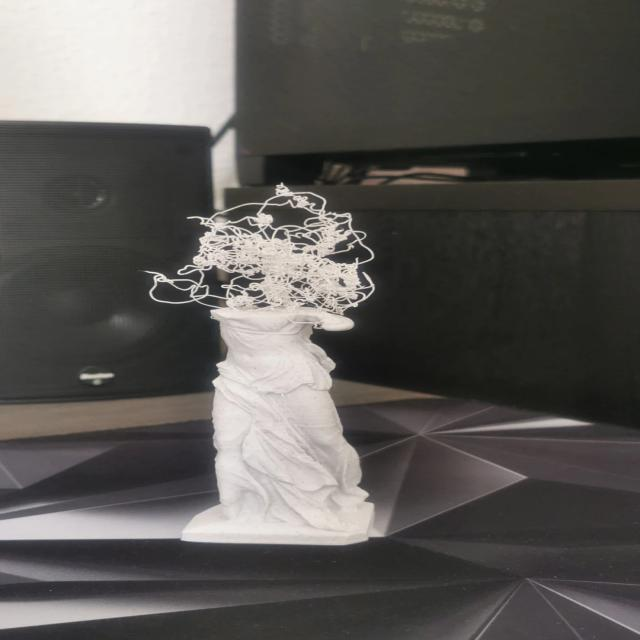Spaghetti: (203, 230, 313, 279), (299, 211, 351, 248)
